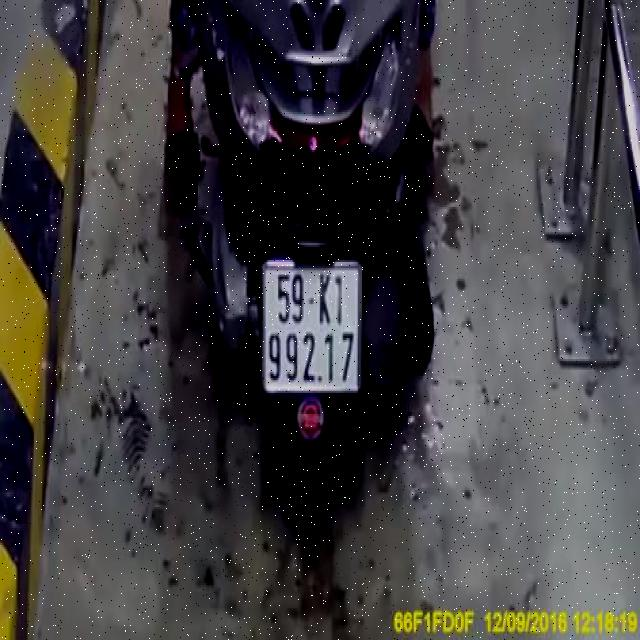1: (334, 275, 347, 327), (322, 331, 335, 382)
2: (302, 328, 316, 384)
5: (278, 272, 292, 326)
7: (341, 332, 356, 387)
9: (283, 329, 299, 382), (291, 274, 306, 324), (268, 329, 281, 383)
K: (317, 271, 331, 325)
